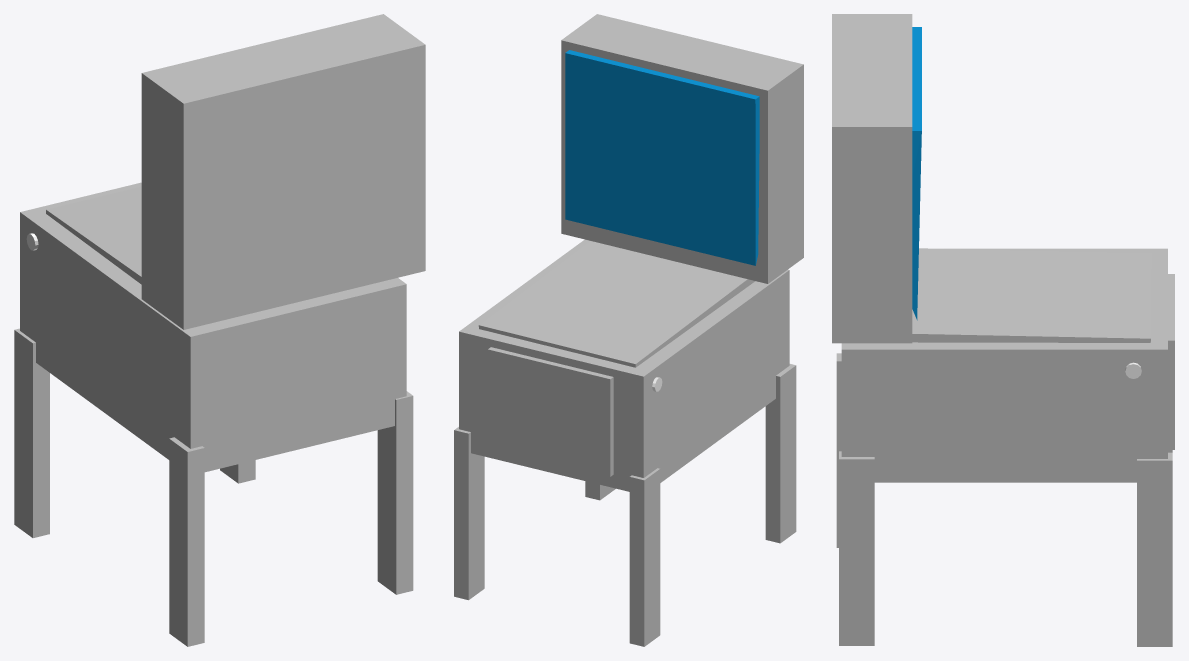
File: pinball.obj
3 renders of one model, left to right at view 1: azimuth 30°, elevation 25°; view 2: azimuth 150°, elevation 25°; view 3: azimuth 270°, elevation 25°, orthographic. The views are drawn at different scales.
Bounding box in the file's own units: 1.13 × 2.47 × 1.45.
